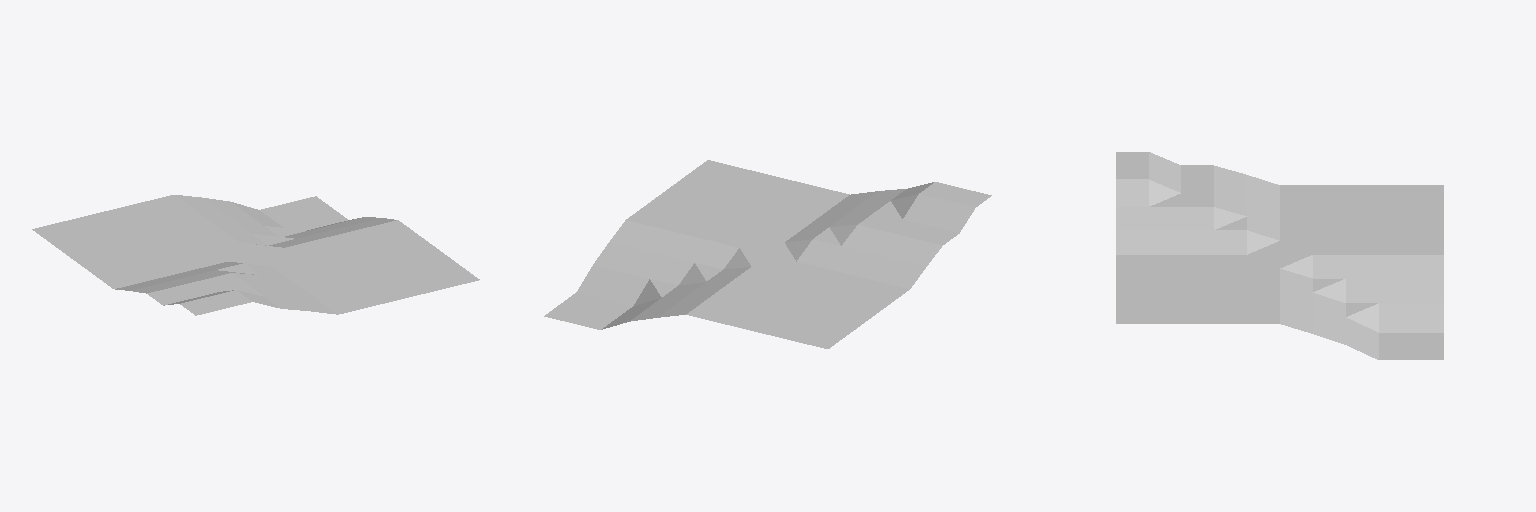
Rendered from test_map1.obj.
3 renders of one model, left to right at view 1: azimuth 30°, elevation 25°; view 2: azimuth 150°, elevation 25°; view 3: azimuth 270°, elevation 25°, orthographic.
Visible parts, largest first — view 1: Grid; view 2: Grid; view 3: Grid.
Part boxes in pixels (x1,y1,x2,y2): Grid: (32,195,479,315); Grid: (544,160,991,348); Grid: (1116,152,1443,359).
Size of the model in its own units: 2 by 0.4696 by 2.